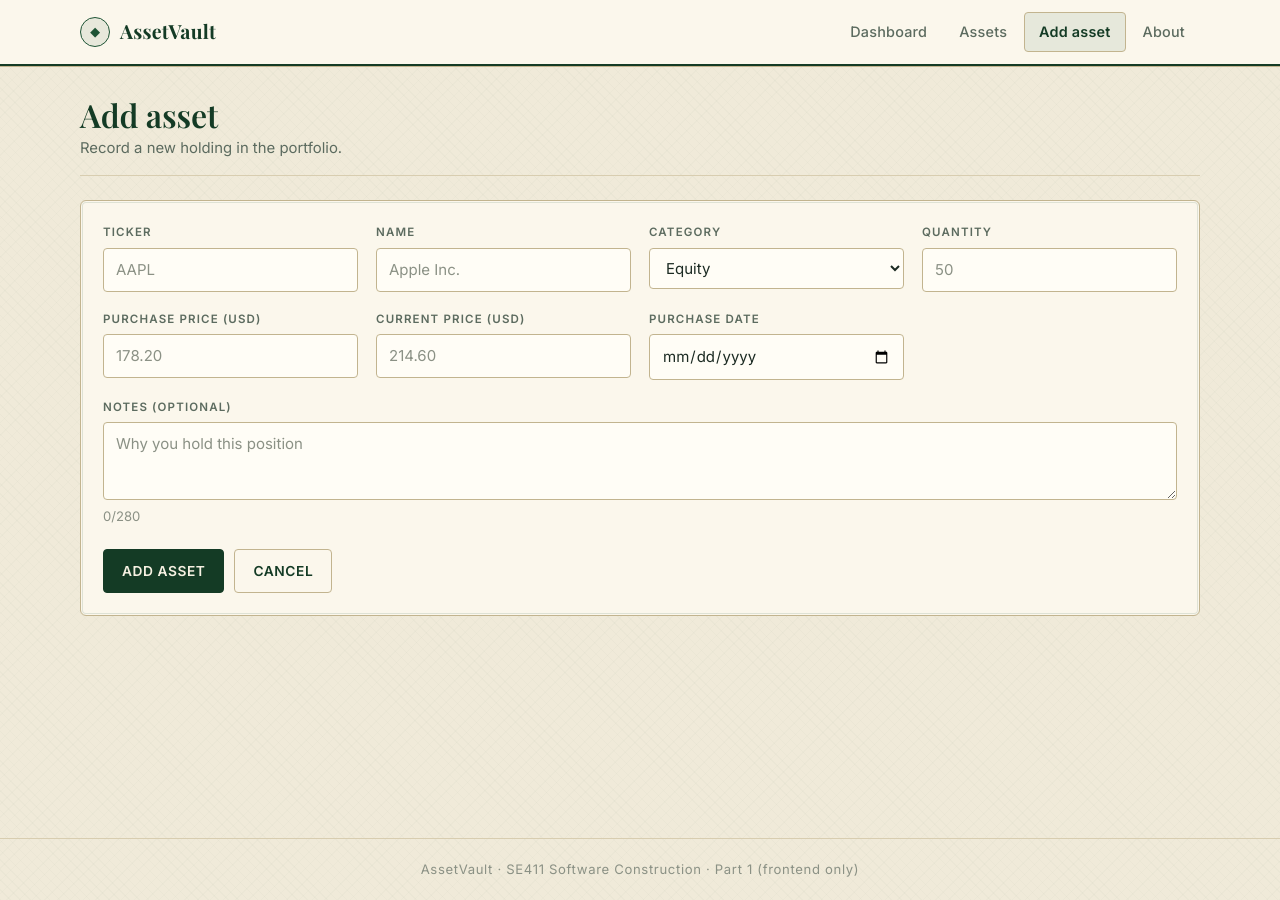
Test: adding an asset › adds a valid asset and shows it in the table
Type "msft" into the field labelled "Ticker". click: (230, 270)
box: [103,248,358,292]
Type "Microsoft Corporation" into the field labelled "Name". click: (504, 270)
box: [376,248,631,292]
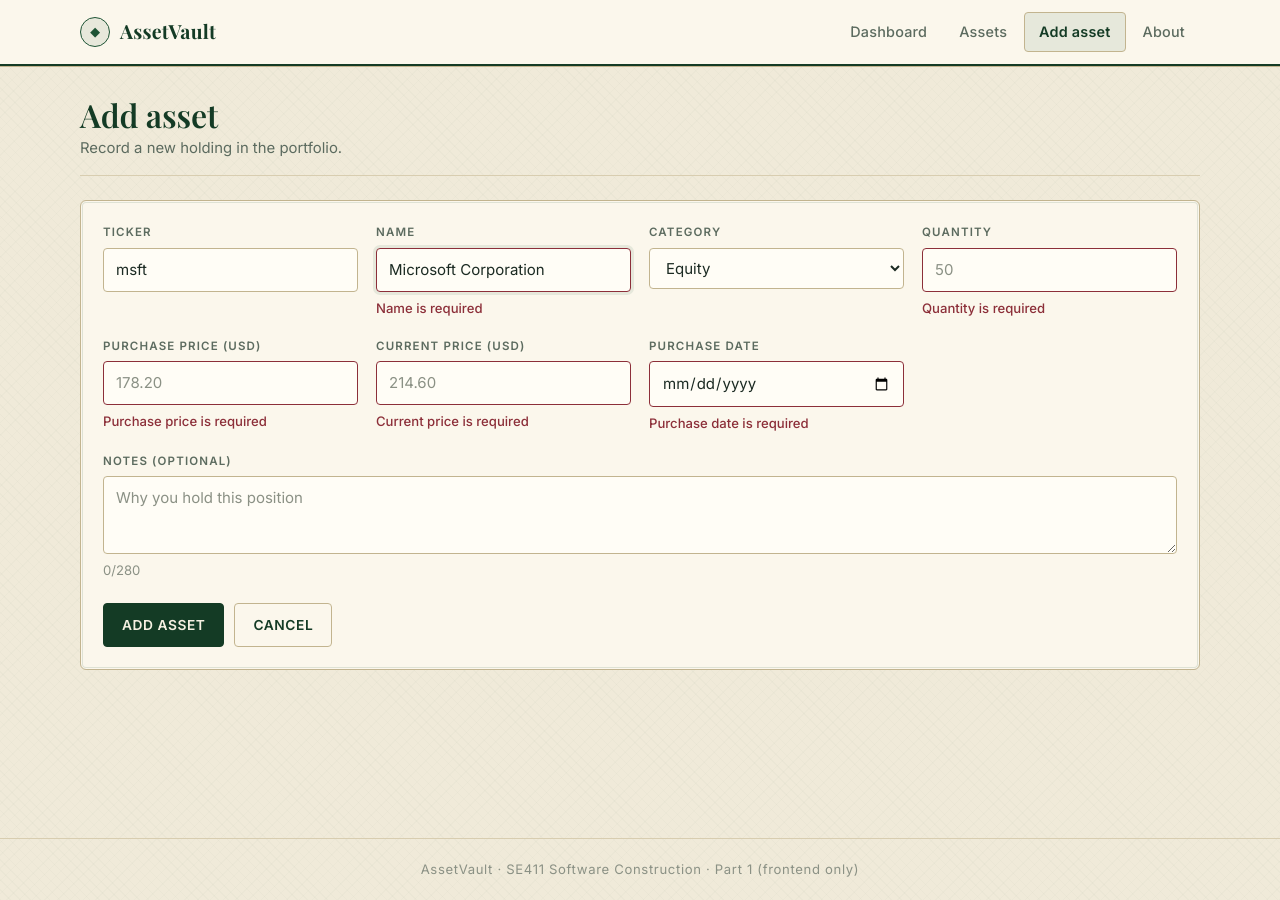
Type "5" into the number field labelled "Quantity". click: (1050, 270)
box: [922,248,1177,292]
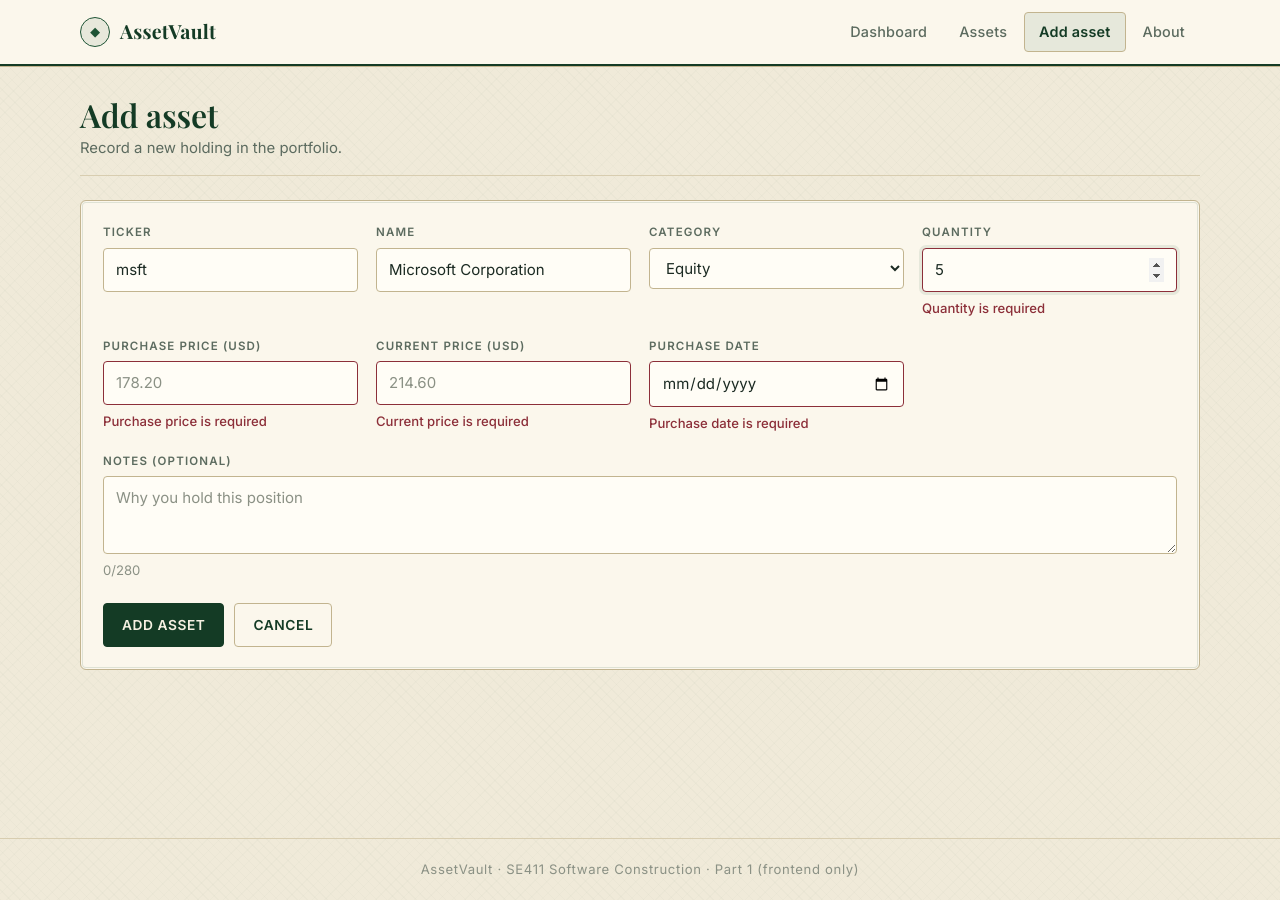
Type "400" into the number field labelled "Purchase price (USD)". click: (230, 383)
box: [103,361,358,405]
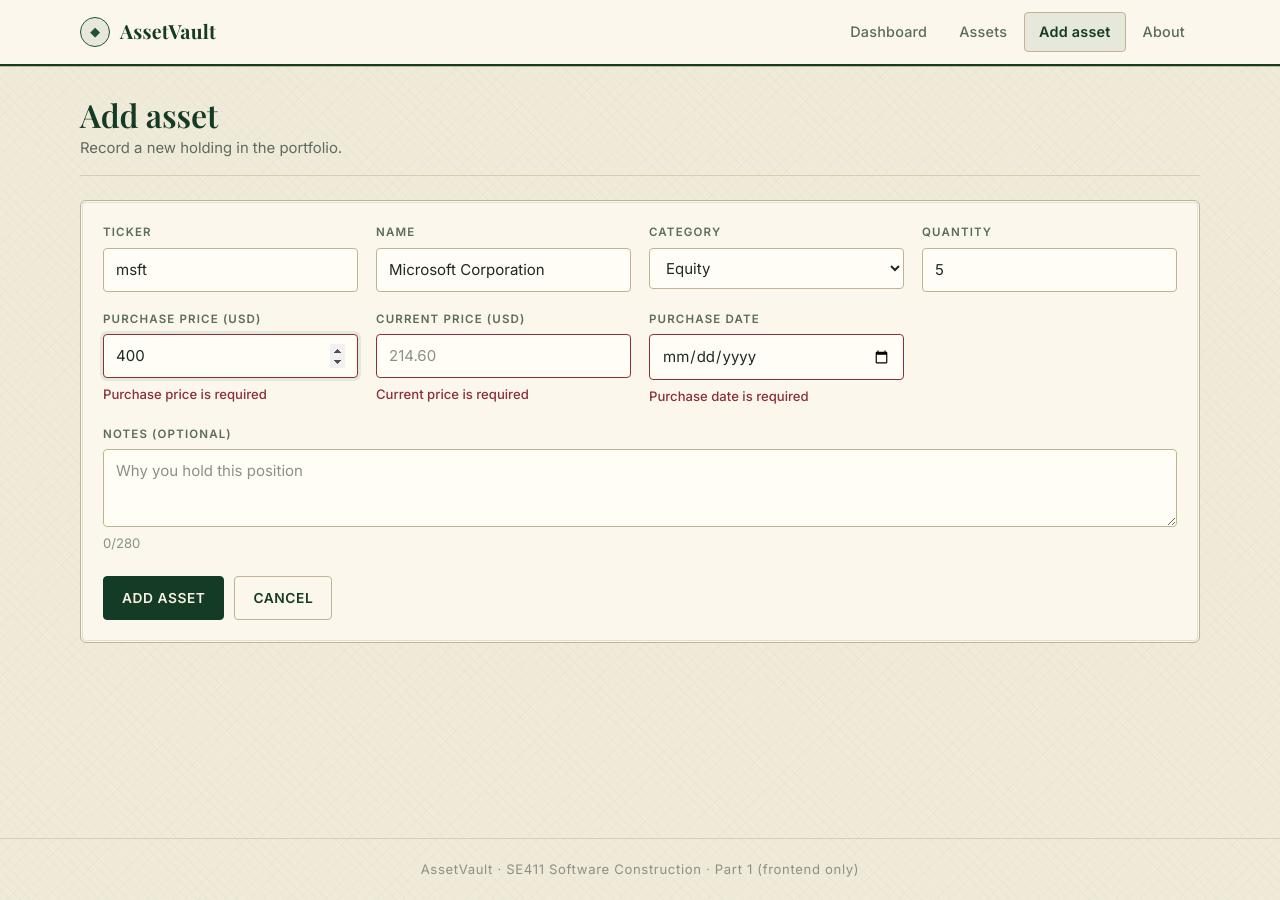
Type "430" into the number field labelled "Current price (USD)". click: (504, 356)
box: [376,334,631,378]
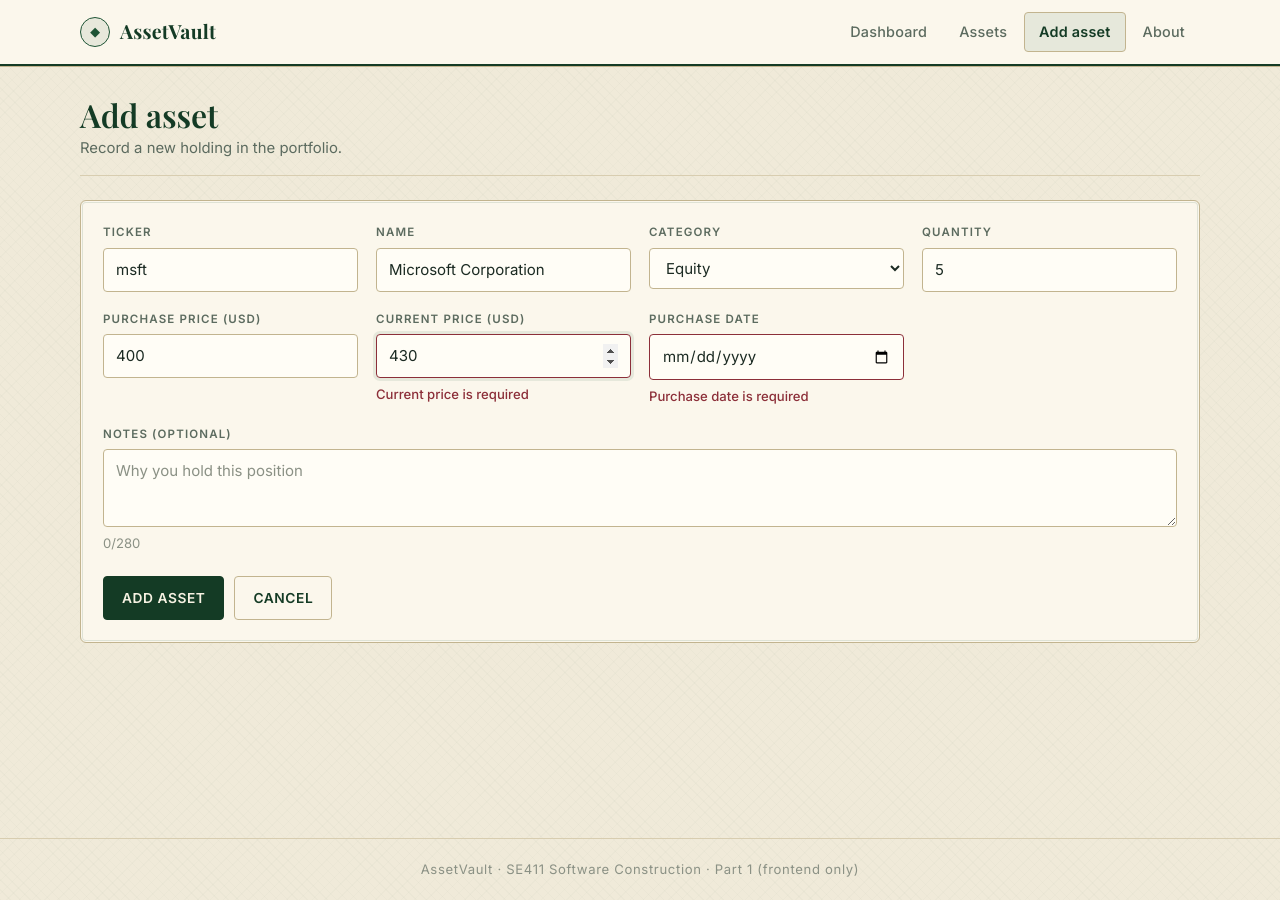
Type "2025-01-10" into the date field labelled "Purchase date". click: (776, 357)
box: [649,334,904,380]
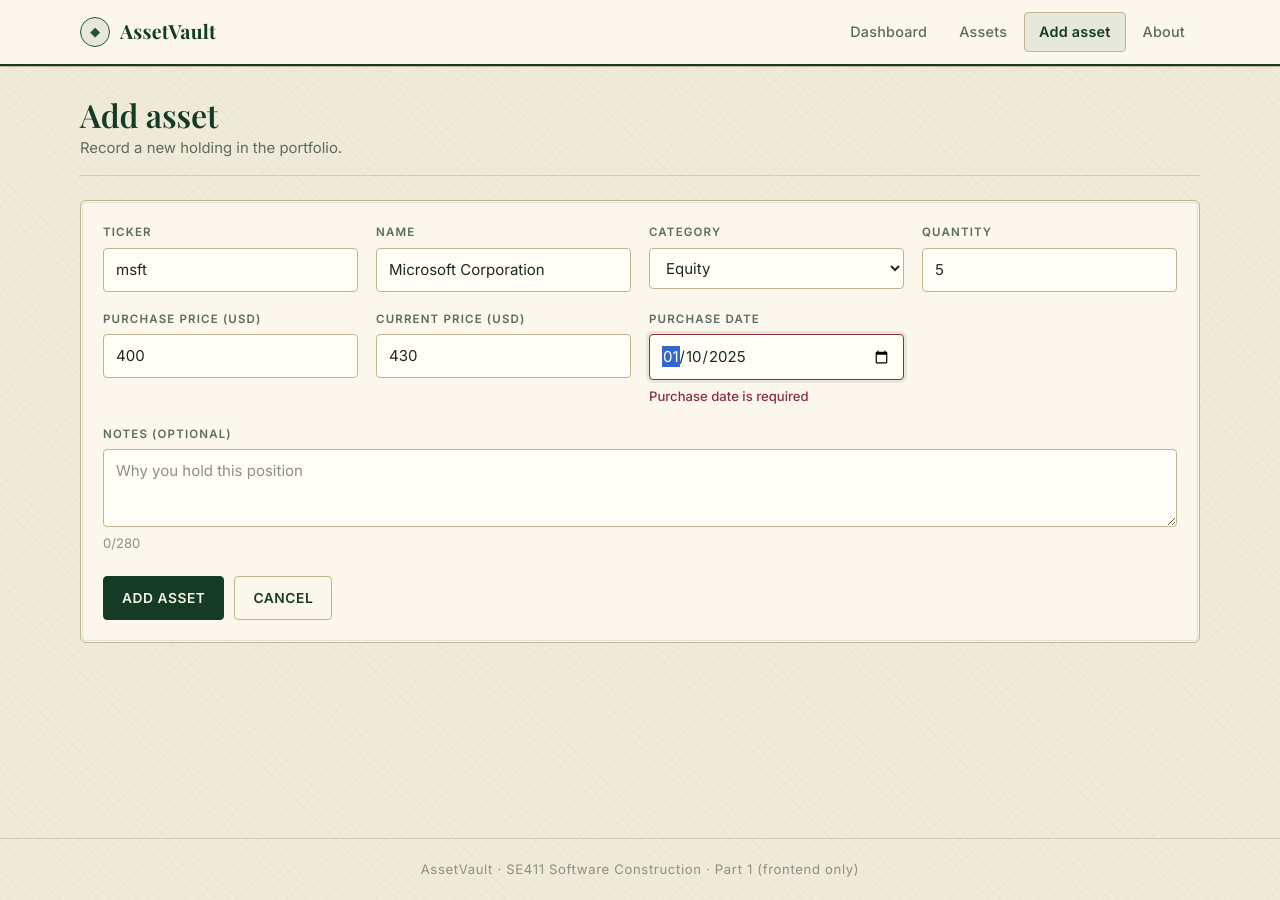
Click the button "Add asset". click: click(164, 598)
box: [103,576,224,620]
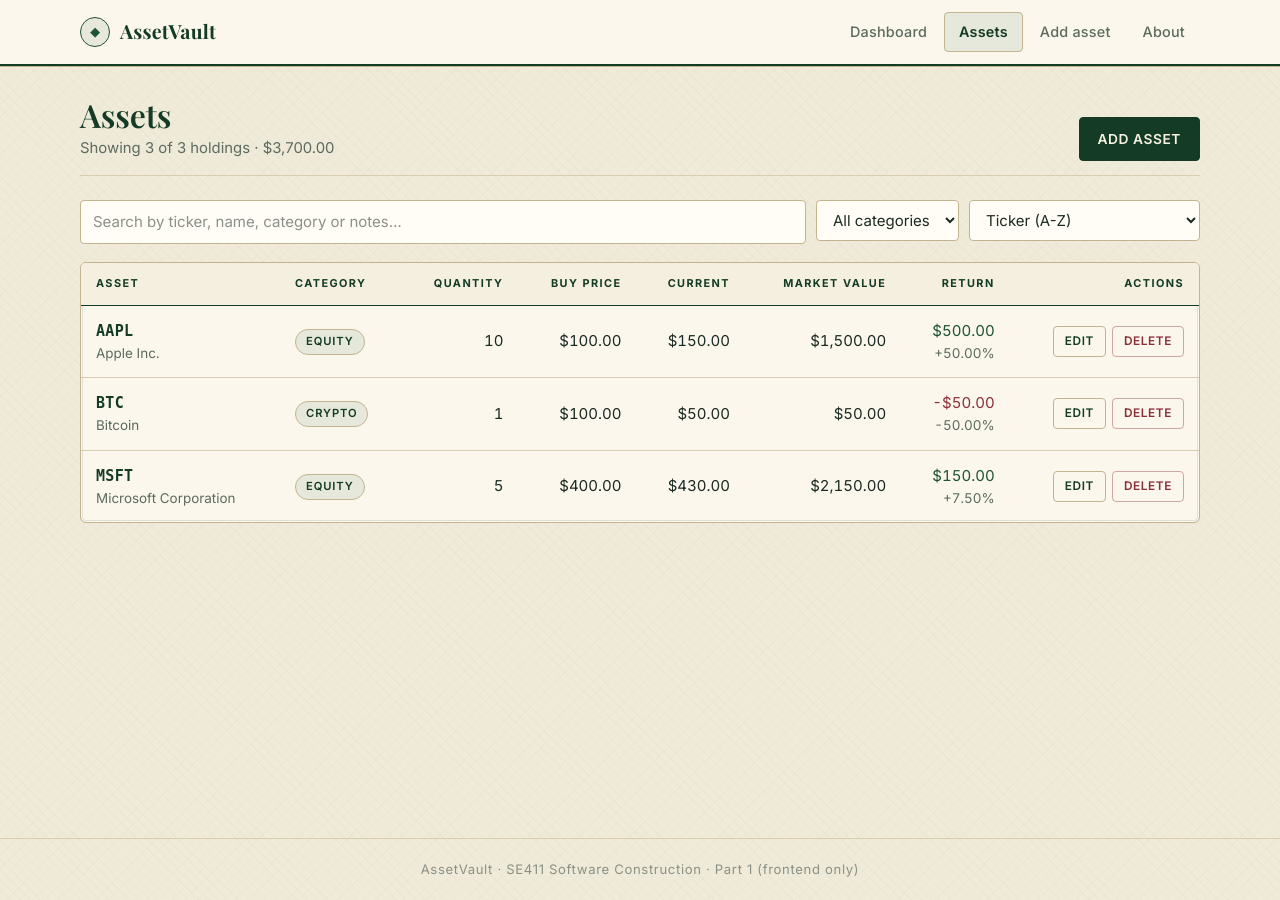
Expected: the heading "Assets" is shown, [80,93,171,136]
Expected: the text "MSFT" is shown, [96,467,133,485]
Expected: the text "Microsoft Corporation" is shown, [96,490,236,506]
